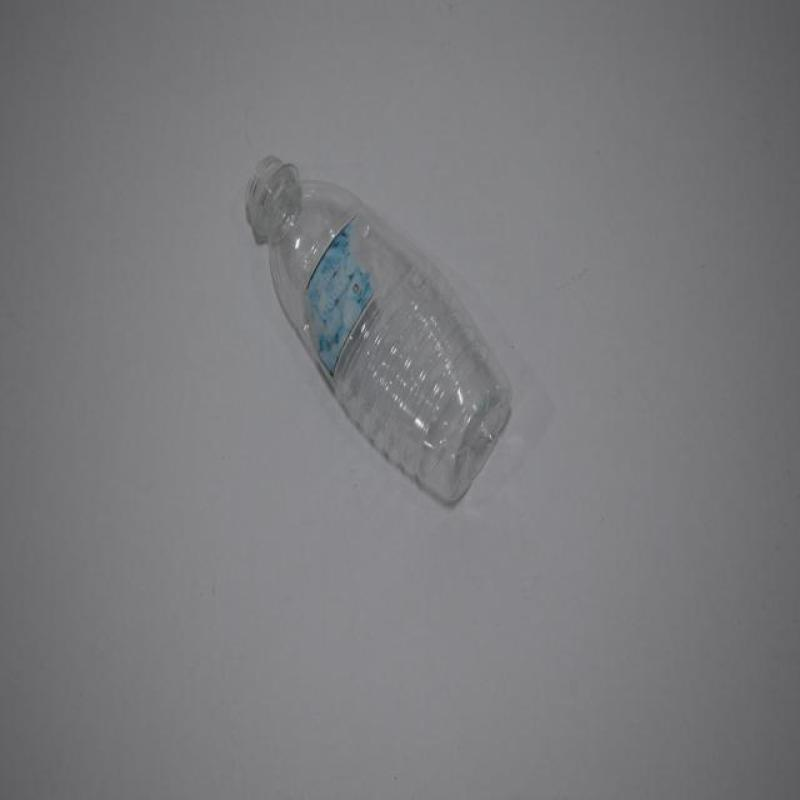botella: (240, 156, 515, 508)
